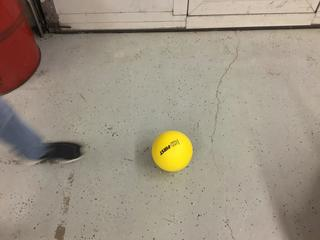power_cell: (149, 129, 196, 175)
